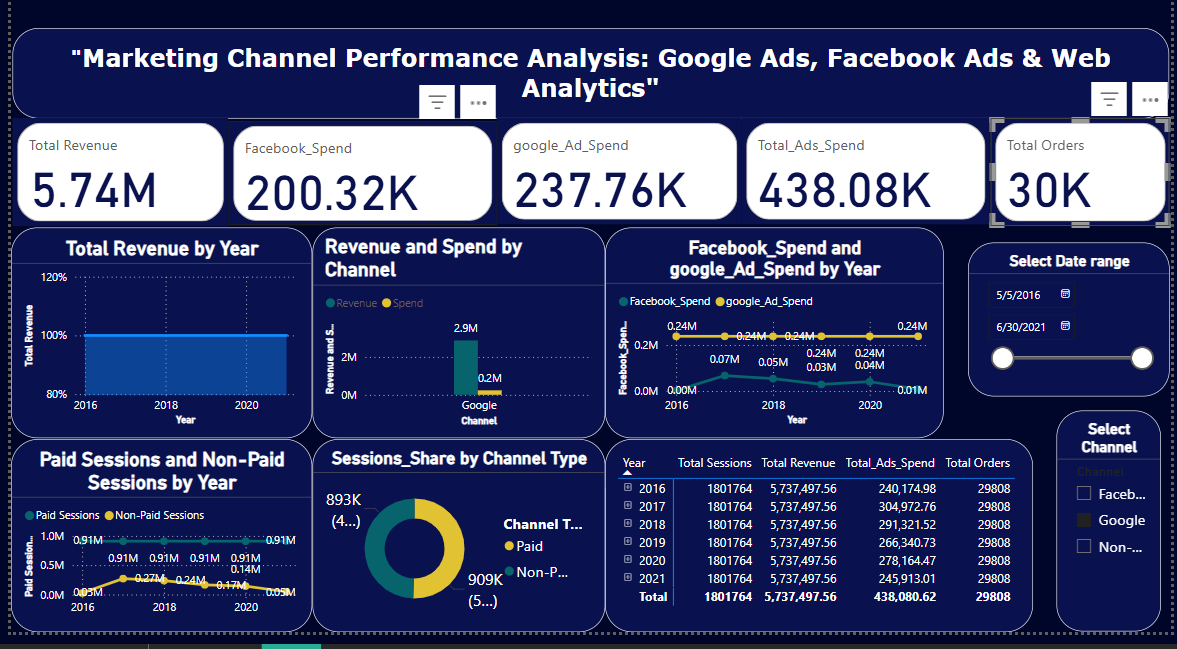

What the dashboard file says about the page in this screenshot:
{"tool":"powerbi","page":{"name":"Page 1","canvas":[1280,720],"ordinal":0},"visuals":[{"type":"lineChart","fields":{"Category":["fbads_daily.Date.Variation.Date Hierarchy.Year","fbads_daily.Date.Variation.Date Hierarchy.Quarter","fbads_daily.Date.Variation.Date Hierarchy.Month","fbads_daily.Date.Variation.Date Hierarchy.Day"],"Y":["fbads_daily.Facebook_Spend","googleads_daily.google_Ad_Spend"]},"box":[656,215.3,374.4,260.1],"z":0},{"type":"lineChart","fields":{"Category":["ga_non-paid.date.Variation.Date Hierarchy.Year","ga_non-paid.date.Variation.Date Hierarchy.Quarter","ga_non-paid.date.Variation.Date Hierarchy.Month","ga_non-paid.date.Variation.Date Hierarchy.Day"],"Y":["fbads_daily.Paid Sessions","fbads_daily.Non-Paid Sessions"]},"box":[1.7,475.4,333,245.2],"z":1},{"type":"hundredPercentStackedAreaChart","fields":{"Category":["fbads_daily.Date.Variation.Date Hierarchy.Year","fbads_daily.Date.Variation.Date Hierarchy.Quarter","fbads_daily.Date.Variation.Date Hierarchy.Month","fbads_daily.Date.Variation.Date Hierarchy.Day"],"Y":["fbads_daily.Total Revenue"]},"box":[0,215.3,333,260.1],"z":2},{"type":"clusteredColumnChart","fields":{"Category":["Channel.Channel"],"Y":["Channel.Revenue","Channel.Spend"]},"box":[333,215.3,321.4,260.1],"z":3},{"type":"donutChart","fields":{"Category":["Channel_Type.Channel Type"],"Y":["Channel_Type.Sessions_Share"]},"box":[334.6,475.4,321.4,245.2],"z":4},{"type":"pivotTable","fields":{"Rows":["fbads_daily.Date.Variation.Date Hierarchy.Year","fbads_daily.Date.Variation.Date Hierarchy.Quarter","fbads_daily.Date.Variation.Date Hierarchy.Month","fbads_daily.Date.Variation.Date Hierarchy.Day"],"Values":["fbads_daily.Total Sessions","fbads_daily.Total Revenue","fbads_daily.Total_Ads_Spend","fbads_daily.Total Orders"]},"box":[656,475.4,622.8,245.2],"z":5},{"type":"textbox","box":[3.3,0,1277.1,101],"z":6},{"type":"cardVisual","fields":{"Data":["fbads_daily.Facebook_Spend"]},"box":[238.5,101,296.5,114.3],"z":7},{"type":"cardVisual","fields":{"Data":["googleads_daily.google_Ad_Spend"]},"box":[536.7,101,270,117.6],"z":8},{"type":"cardVisual","fields":{"Data":["fbads_daily.Total_Ads_Spend"]},"box":[806.7,102.7,275,117.6],"z":9},{"type":"cardVisual","fields":{"Data":["fbads_daily.Total Orders"]},"box":[1081.7,102.7,197.1,119.3],"z":10},{"type":"cardVisual","fields":{"Data":["fbads_daily.Total Revenue"]},"box":[0,96.1,238.5,119.3],"z":11},{"type":"slicer","title":"Select Date range","fields":{"Values":["fbads_daily.Date"]},"box":[1043.6,233.6,236.9,112.6],"z":12},{"type":"slicer","title":"Select Channel","fields":{"Values":["Channel.Channel"]},"box":[1043.6,359.5,235.2,104.4],"z":13}]}

Visuals, with their boxes in screenshot pixels (x1, y1, x2, y2), scaled from the page's 1280x720 canvas onto the 1177x649 screenshot:
lineChart - fbads_daily.Date.Variation.Date Hierarchy.Year x fbads_daily.Date.Variation.Date Hierarchy.Quarter: 603, 194, 947, 429
lineChart - ga_non-paid.date.Variation.Date Hierarchy.Year x ga_non-paid.date.Variation.Date Hierarchy.Quarter: 2, 429, 308, 648
hundredPercentStackedAreaChart - fbads_daily.Date.Variation.Date Hierarchy.Year x fbads_daily.Date.Variation.Date Hierarchy.Quarter: 0, 194, 306, 429
clusteredColumnChart - Channel.Channel x Channel.Revenue: 306, 194, 602, 429
donutChart - Channel_Type.Channel Type x Channel_Type.Sessions_Share: 308, 429, 603, 648
pivotTable - fbads_daily.Date.Variation.Date Hierarchy.Year x fbads_daily.Date.Variation.Date Hierarchy.Quarter: 603, 429, 1176, 648
textbox: 3, 0, 1176, 91
cardVisual - fbads_daily.Facebook_Spend: 219, 91, 492, 194
cardVisual - googleads_daily.google_Ad_Spend: 494, 91, 742, 197
cardVisual - fbads_daily.Total_Ads_Spend: 742, 93, 995, 199
cardVisual - fbads_daily.Total Orders: 995, 93, 1176, 200
cardVisual - fbads_daily.Total Revenue: 0, 87, 219, 194
"Select Date range" slicer: 960, 211, 1176, 312
"Select Channel" slicer: 960, 324, 1176, 418
